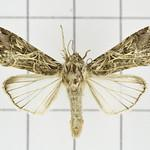Spodoptera litura: (1, 24, 150, 138)
